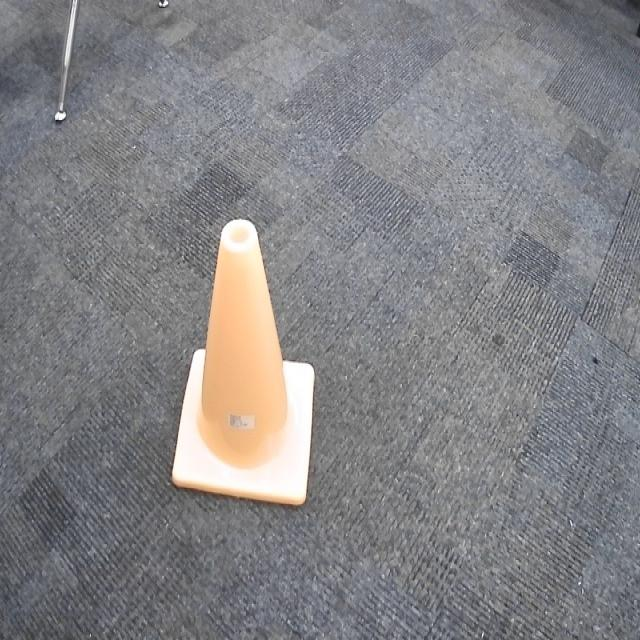cone: (170, 218, 316, 507)
